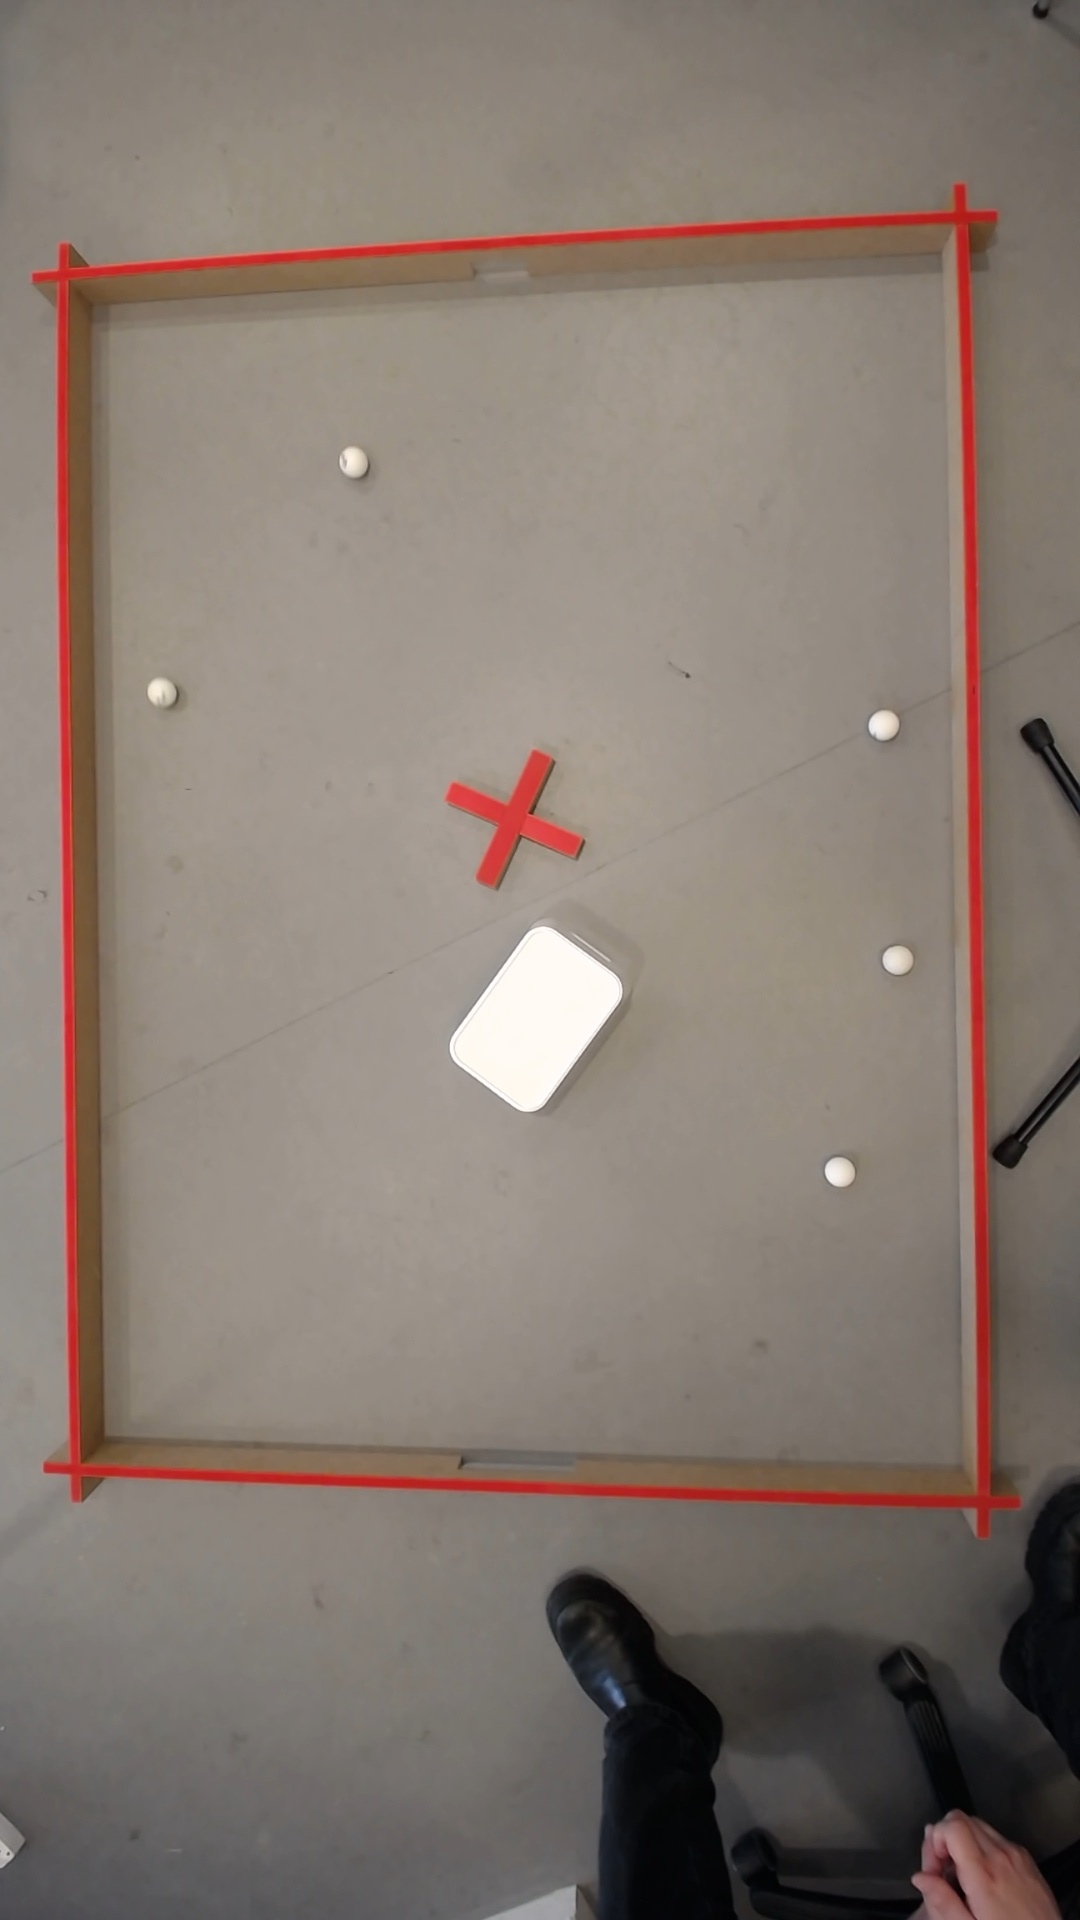balls: (436, 915, 632, 1121), (819, 1154, 855, 1189), (862, 705, 899, 740), (338, 444, 364, 476), (882, 948, 906, 972)
car: (142, 675, 171, 703)
